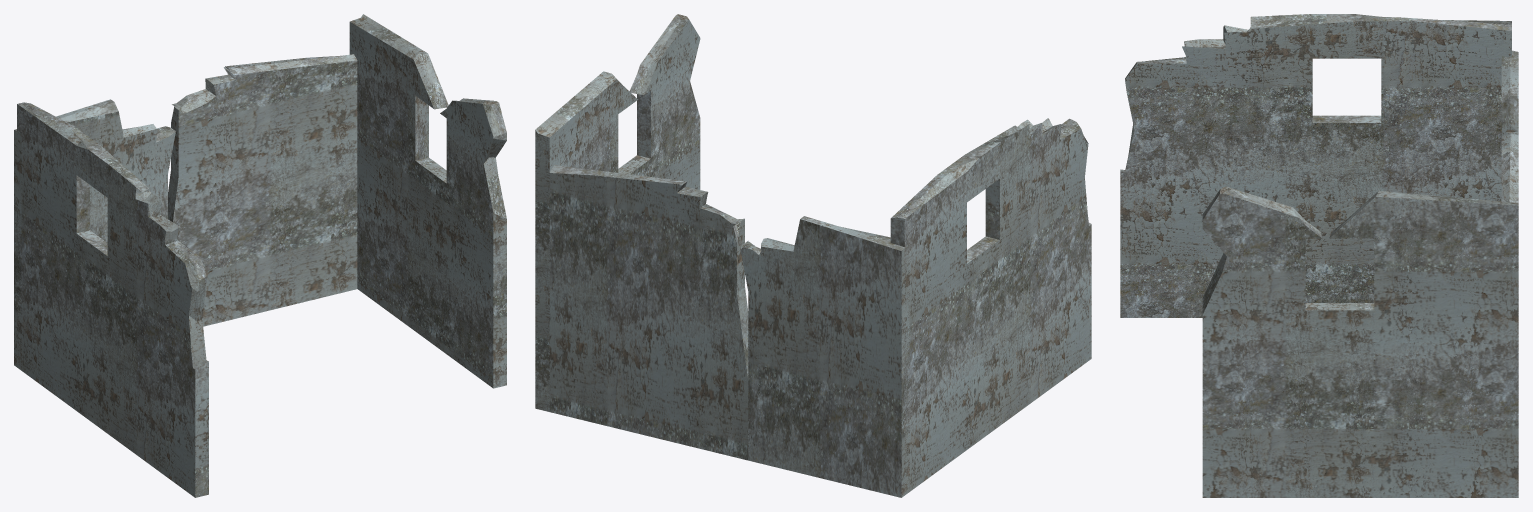
Rendered from nha1 1.fbx.
3 views of the same model, side by side, from view 1: azimuth 30°, elevation 25°; view 2: azimuth 150°, elevation 25°; view 3: azimuth 270°, elevation 25° (orthographic). The views are drawn at different scales.
Parts seen in each view (by area): view 1: Part1.003, Part1.002, Part1.001; view 2: Part1.003, Part1.002, Part1.001; view 3: Part1.001, Part1.002, Part1.003.
Boxes of the visible parts, box(x1,y1,x2,y2) form: Part1.003: box(14, 54, 357, 366); Part1.002: box(17, 102, 208, 497); Part1.001: box(349, 14, 506, 388); Part1.003: box(549, 165, 909, 497); Part1.002: box(890, 118, 1091, 492); Part1.001: box(535, 14, 700, 411); Part1.001: box(1202, 186, 1518, 497); Part1.002: box(1120, 14, 1511, 317); Part1.003: box(1501, 50, 1518, 202).
Size of the model in its own units: 484 by 366 by 435.
Materials: 1 (1 with a texture image).
